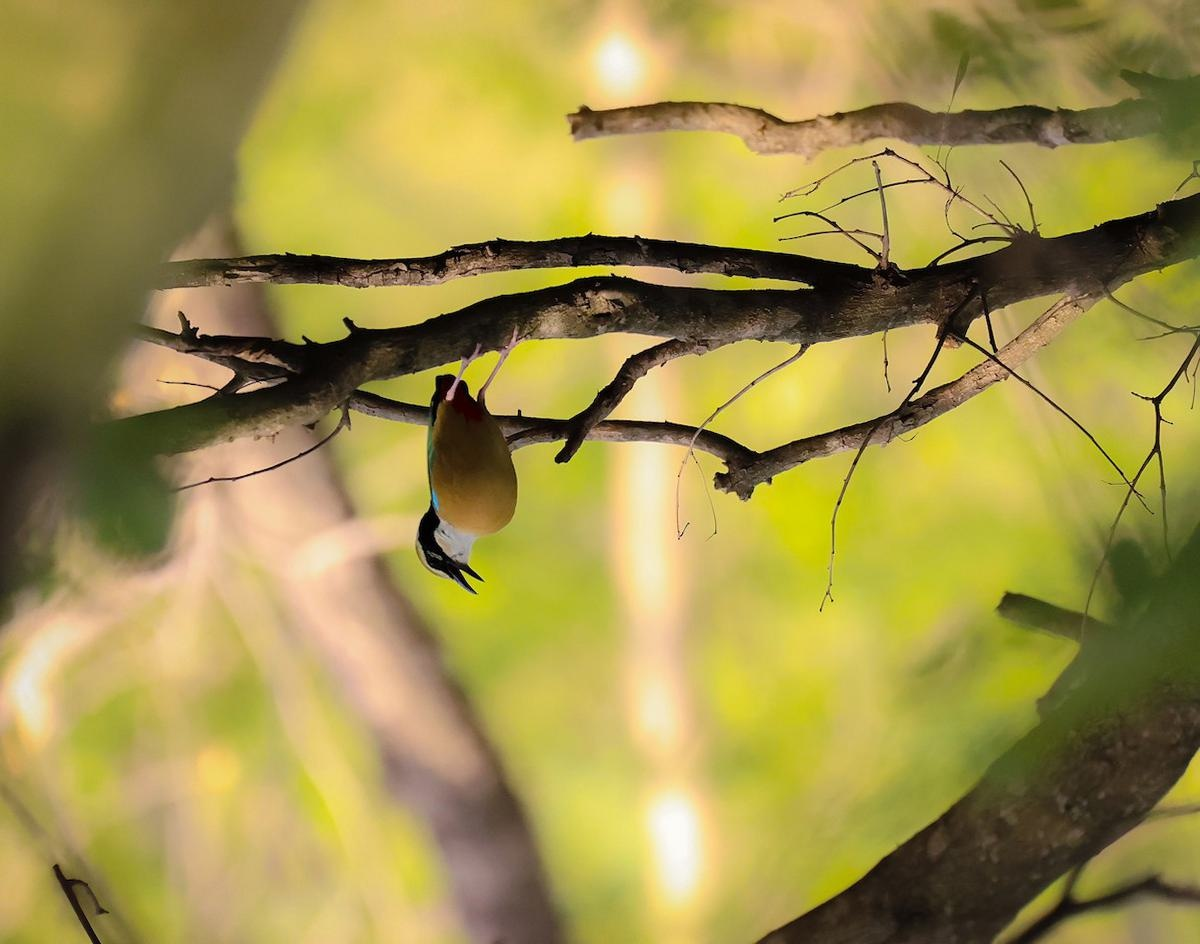pitta: (385, 315, 560, 625)
